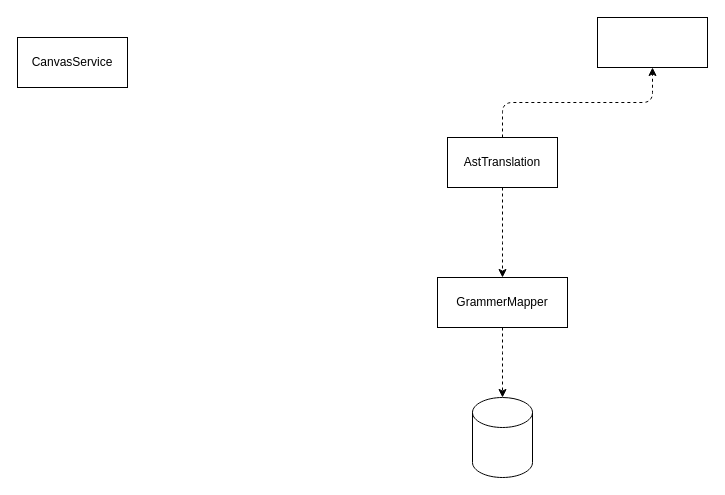
Image size: 725x495. Some labels were removed from this diagram. Each missing label, with the centre of its shape:
"GrammerNormalizionStore" goes at point 502,437.
"TreeSitter" goes at point 652,42.
